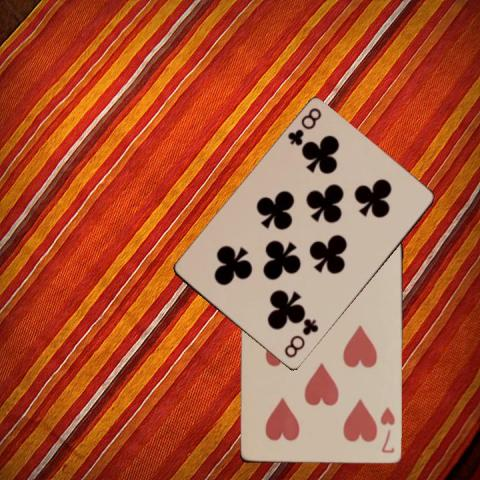7h: (377, 404, 397, 454)
8c: (281, 316, 320, 360), (284, 105, 322, 148)
